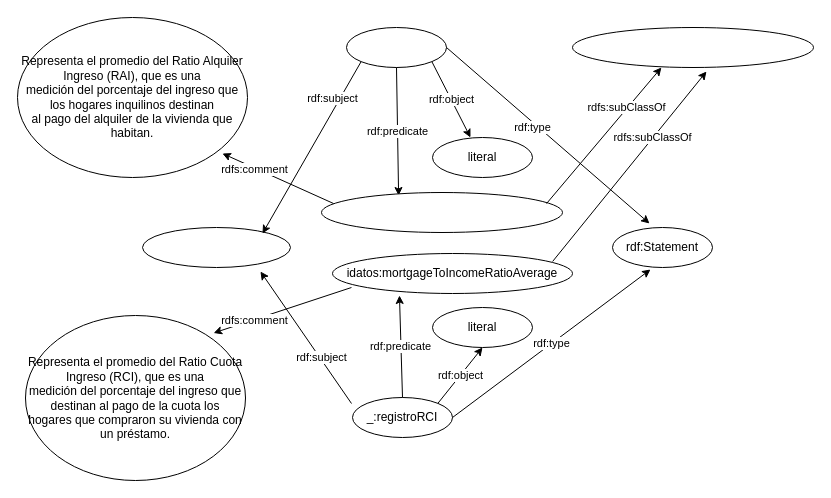
Image size: 831x498. Some labels were removed from this diagram. The centre of each missing label's shape, as x and y in pixels:
<http://dbpedia.org/ontology/average>: the point at 693,47
_:registroRAI: the point at 396,47
idatos:rentalToIncomeRatioAverage: the point at 441,212
wikidata:deparamento: the point at 216,247
